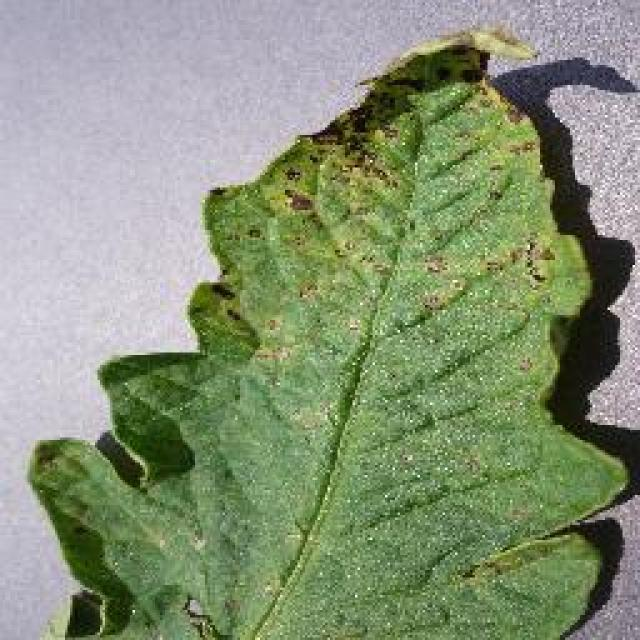Tomato Septoria spot leaf: (32, 27, 627, 640)
